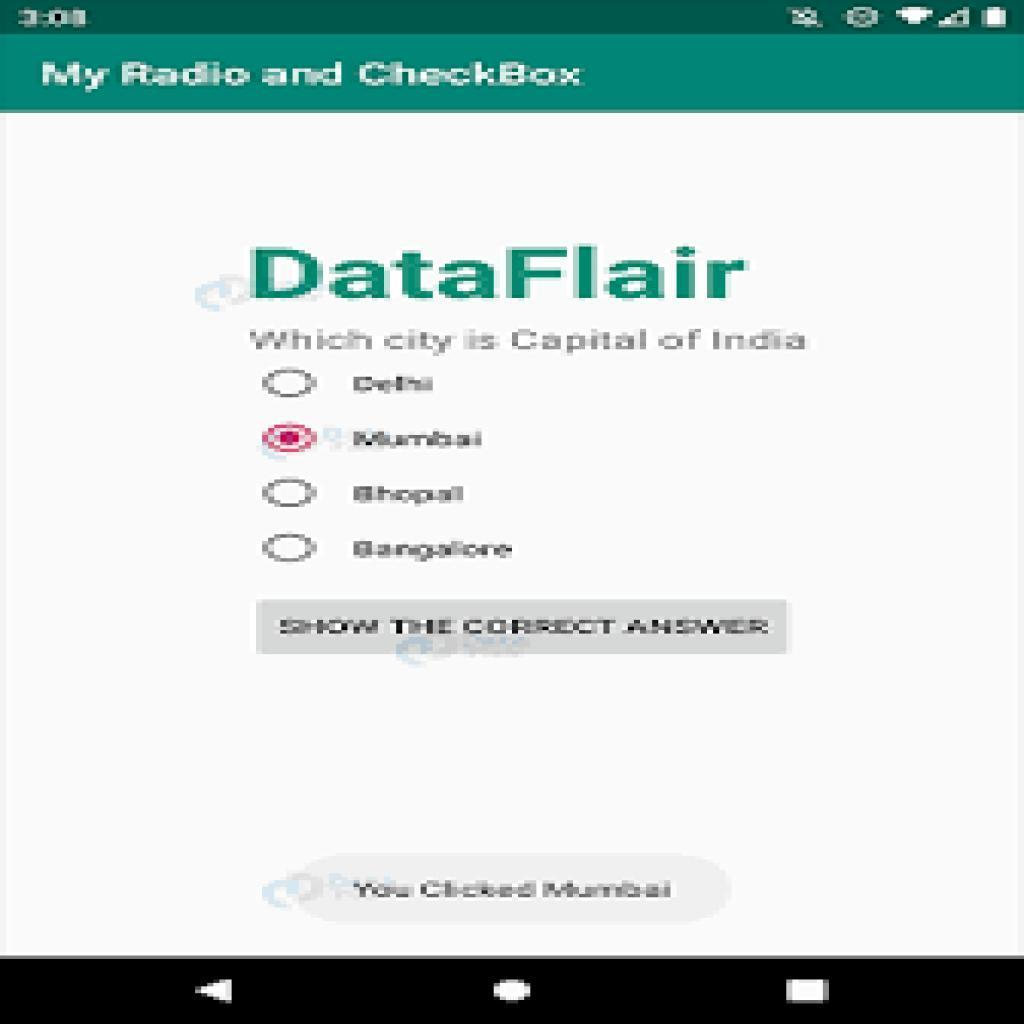button: (296, 852, 730, 925), (255, 600, 789, 657)
radio: (258, 420, 326, 459), (258, 530, 324, 569), (261, 472, 326, 510), (256, 367, 325, 399)
